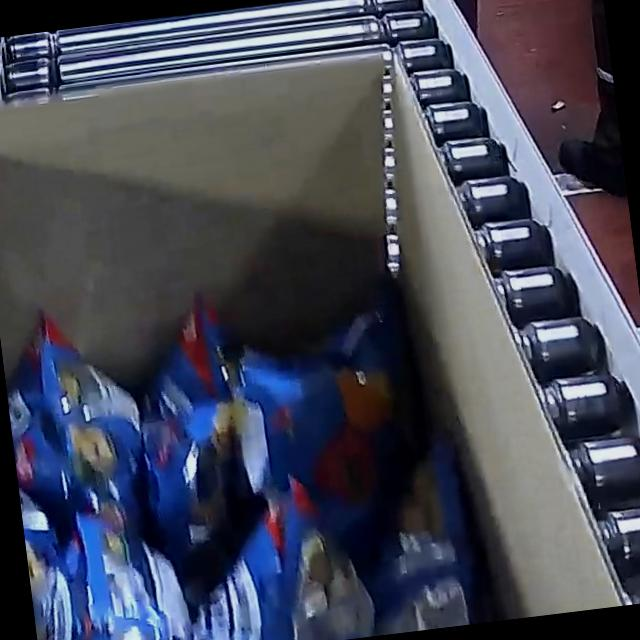paprika: (0, 250, 512, 640)
